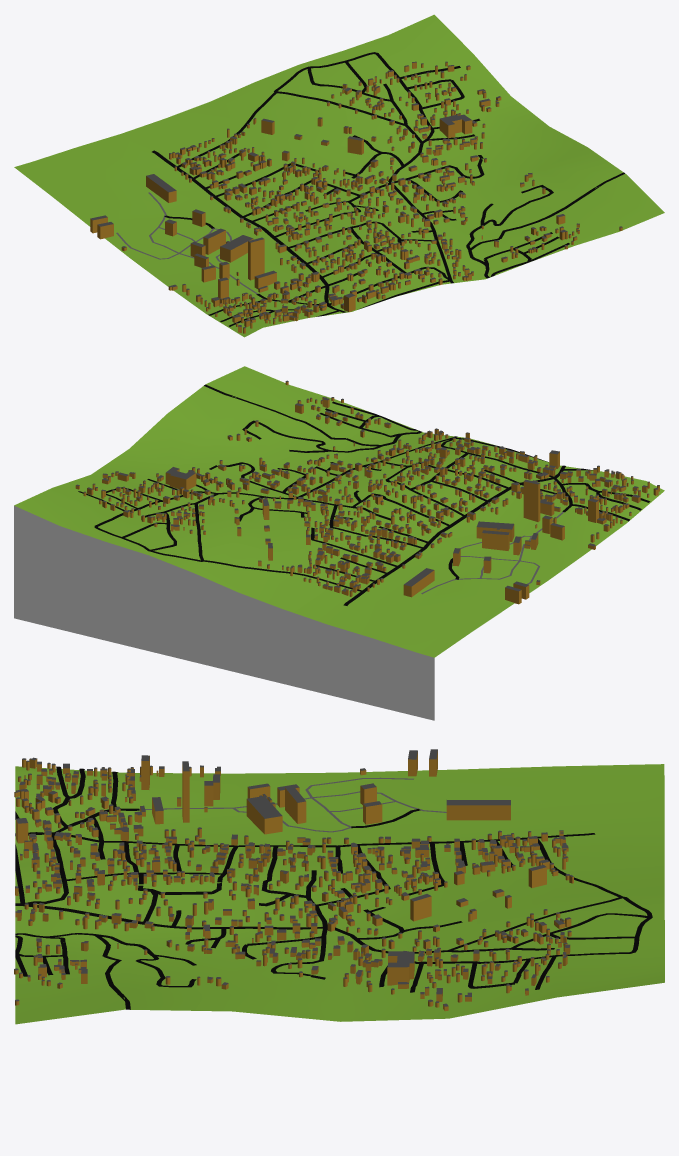
File: tile_10_07.glb
3 views of the same model, one above another, from view 1: azimuth 30°, elevation 25°; view 2: azimuth 150°, elevation 25°; view 3: azimuth 270°, elevation 25° (orthographic). The views are drawn at different scales.
Parts seen in each view (by area): view 1: Terrain_10_07, Ub_small.osm_buildings_10_07, Ub_small.osm_roads_residential_10_07, Ub_small.osm_roads_secondary_10_07, Ub_small.osm_roads_service_10_07; view 2: Terrain_10_07, Ub_small.osm_buildings_10_07, Ub_small.osm_roads_residential_10_07, Ub_small.osm_roads_secondary_10_07, Ub_small.osm_roads_service_10_07; view 3: Terrain_10_07, Ub_small.osm_buildings_10_07, Ub_small.osm_roads_residential_10_07, Ub_small.osm_roads_secondary_10_07, Ub_small.osm_roads_service_10_07.
Part boxes in pixels (bbox=[...]): Terrain_10_07: bbox=[14, 14, 664, 337]; Ub_small.osm_buildings_10_07: bbox=[90, 61, 622, 333]; Ub_small.osm_roads_residential_10_07: bbox=[164, 52, 624, 326]; Ub_small.osm_roads_secondary_10_07: bbox=[152, 150, 346, 312]; Ub_small.osm_roads_service_10_07: bbox=[116, 192, 257, 294]; Terrain_10_07: bbox=[14, 366, 664, 720]; Ub_small.osm_buildings_10_07: bbox=[75, 380, 659, 604]; Ub_small.osm_roads_residential_10_07: bbox=[78, 384, 650, 591]; Ub_small.osm_roads_secondary_10_07: bbox=[343, 465, 565, 605]; Ub_small.osm_roads_service_10_07: bbox=[421, 512, 563, 594]; Terrain_10_07: bbox=[15, 764, 664, 1024]; Ub_small.osm_buildings_10_07: bbox=[14, 749, 573, 1011]; Ub_small.osm_roads_residential_10_07: bbox=[15, 766, 652, 1009]; Ub_small.osm_roads_secondary_10_07: bbox=[15, 832, 595, 847]; Ub_small.osm_roads_service_10_07: bbox=[139, 777, 446, 832].
Bounding box in the file's own units: 988 × 251 × 931.
